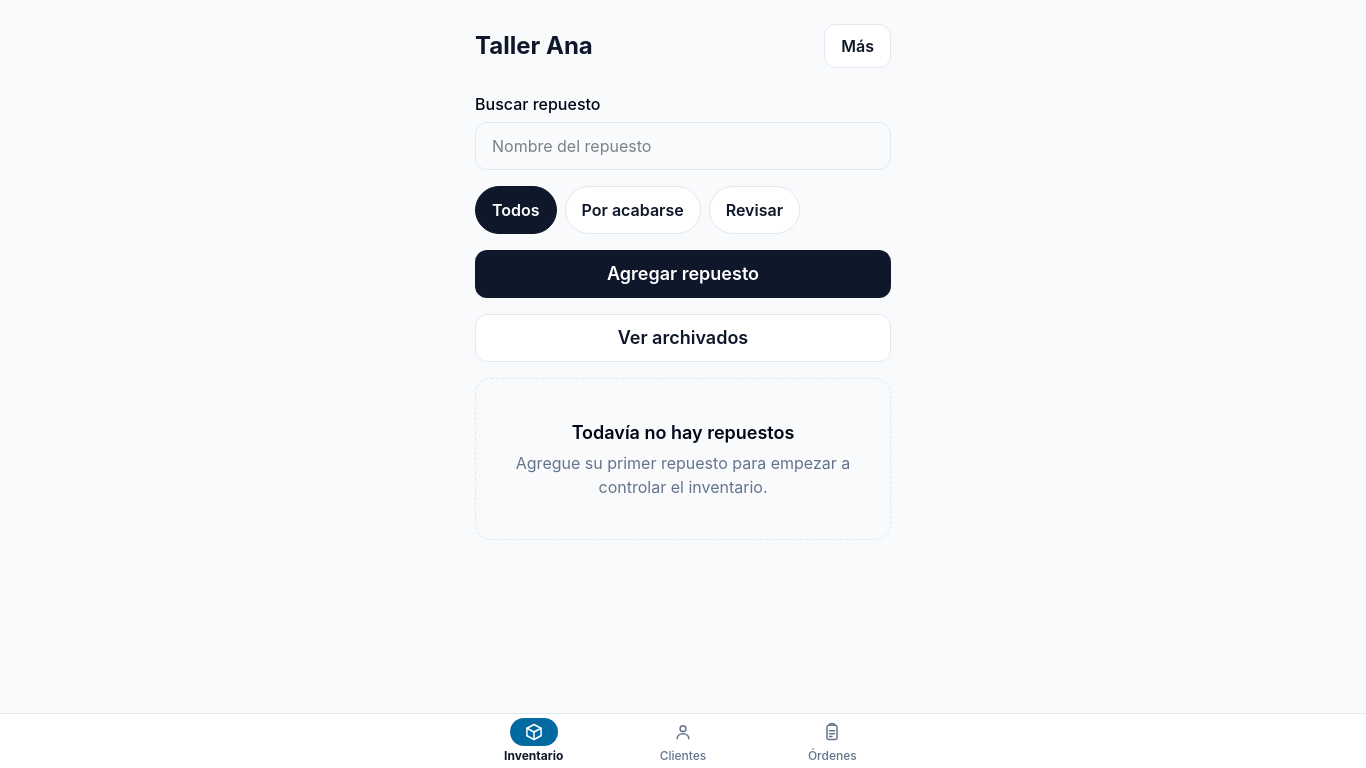
Test: AppShell › renders exactly one logout control, from the shell's 'Más' menu, not from InventoryPage
Expected: the text "Taller Ana" is shown, [475,30,593,62]
Click the button "Más" at (858,46), box [824,24,891,68]
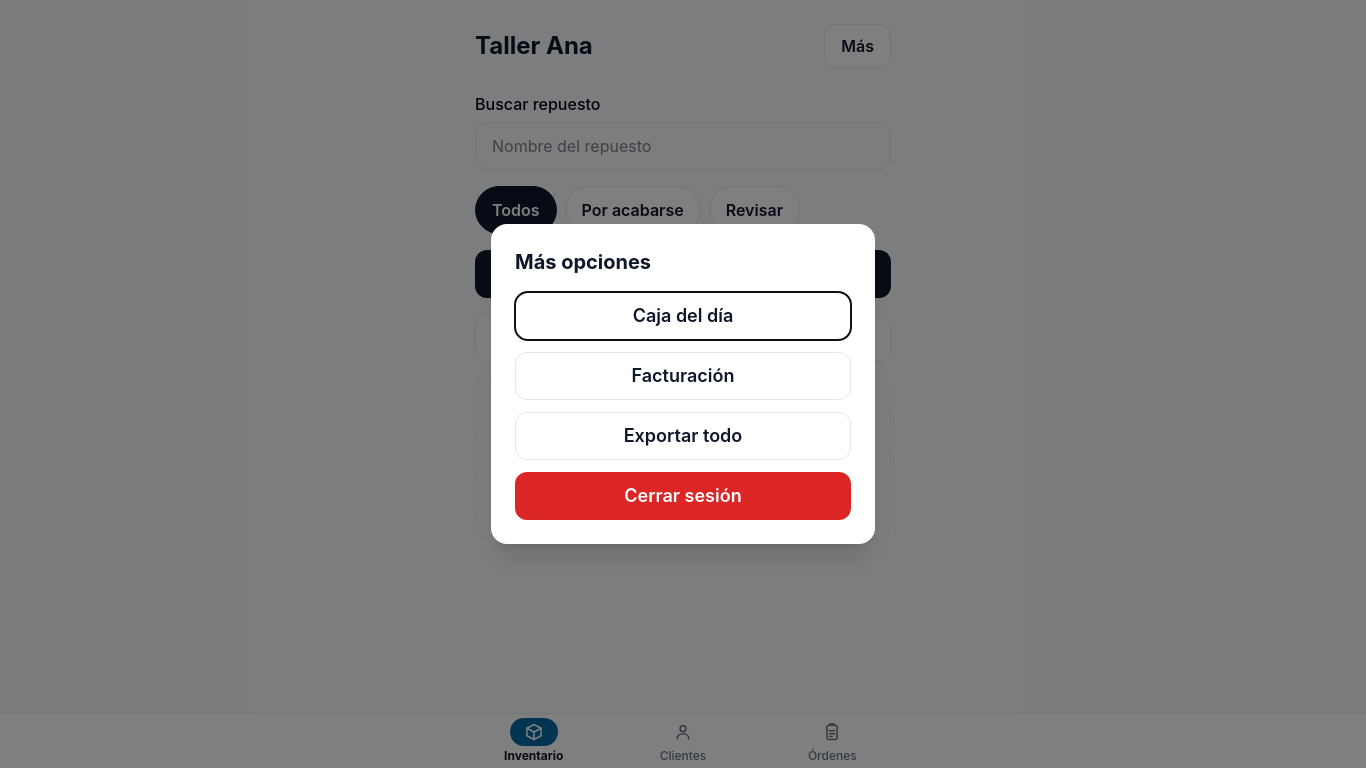
Expected: the number of buttons "Cerrar sesión" is 1, [515,472,851,520]
